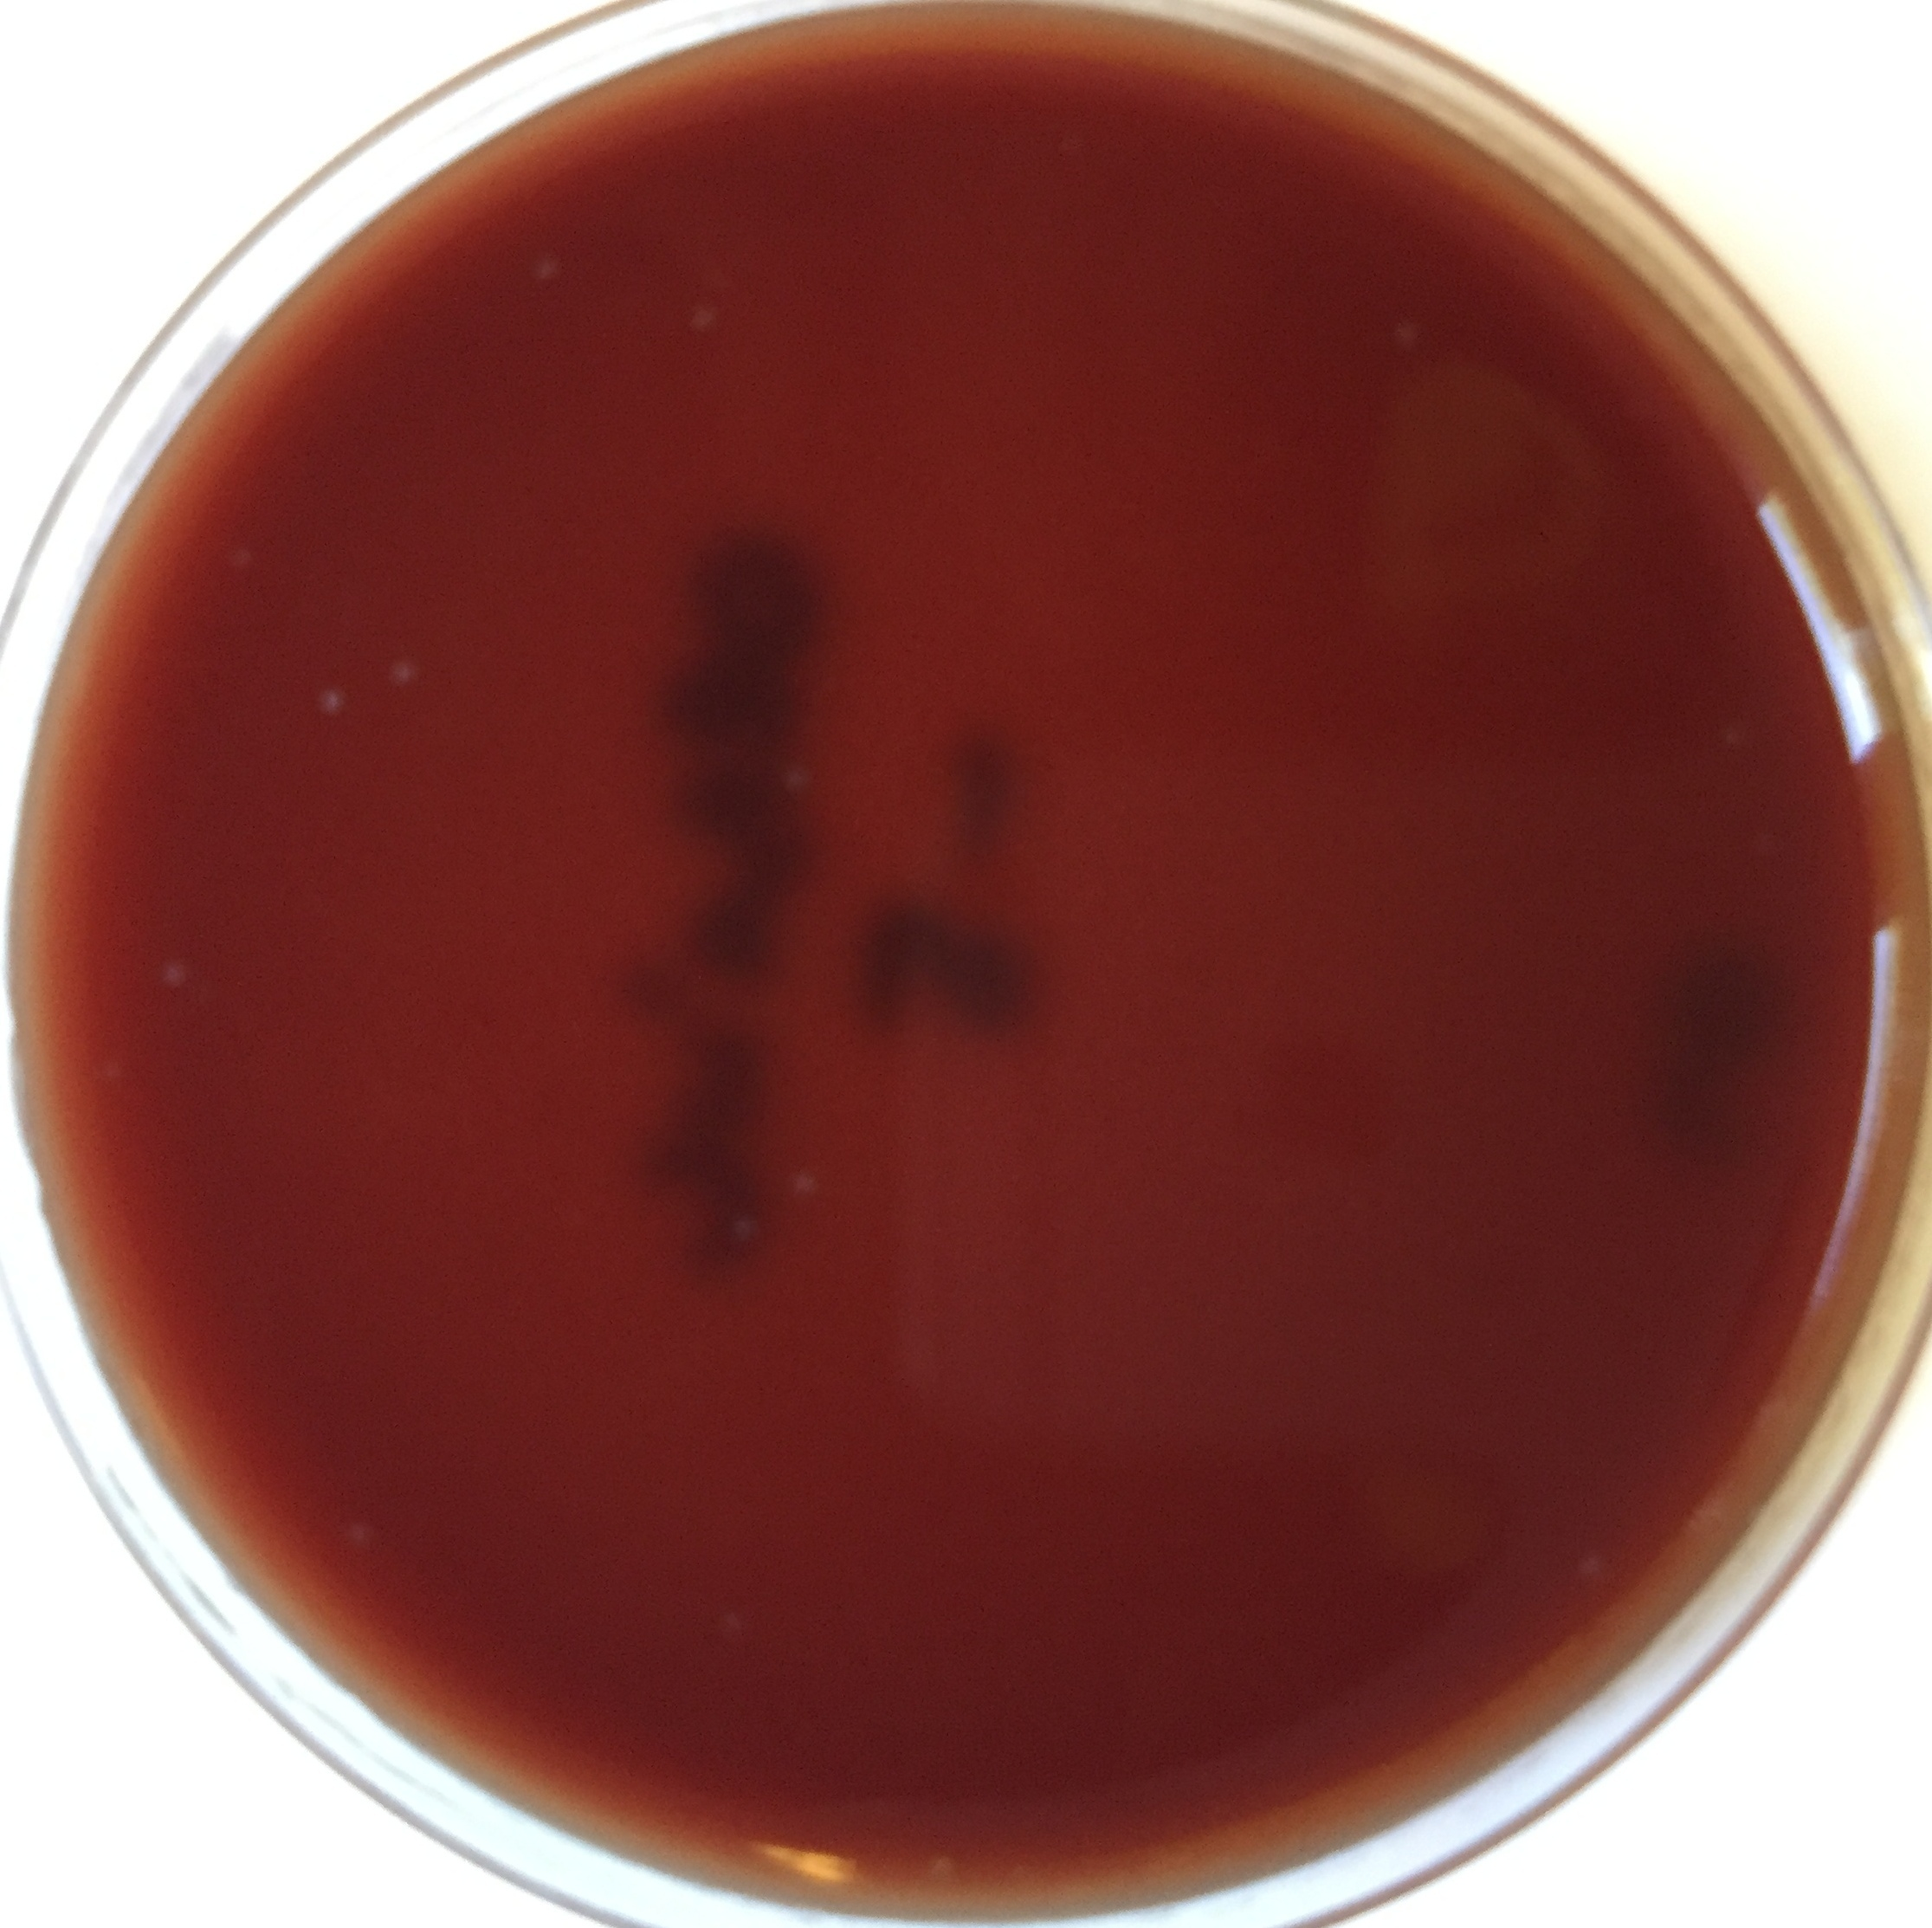sp10: (1369, 293, 1455, 387), (191, 516, 279, 595), (1732, 812, 1803, 902), (1563, 1543, 1634, 1598), (698, 1600, 768, 1646), (517, 245, 576, 297), (1694, 712, 1745, 763), (913, 1847, 955, 1889), (683, 305, 729, 343), (721, 1215, 761, 1254), (159, 953, 200, 989), (385, 651, 420, 685), (314, 687, 351, 719), (343, 1517, 380, 1548), (786, 1169, 821, 1201), (777, 757, 809, 791)
